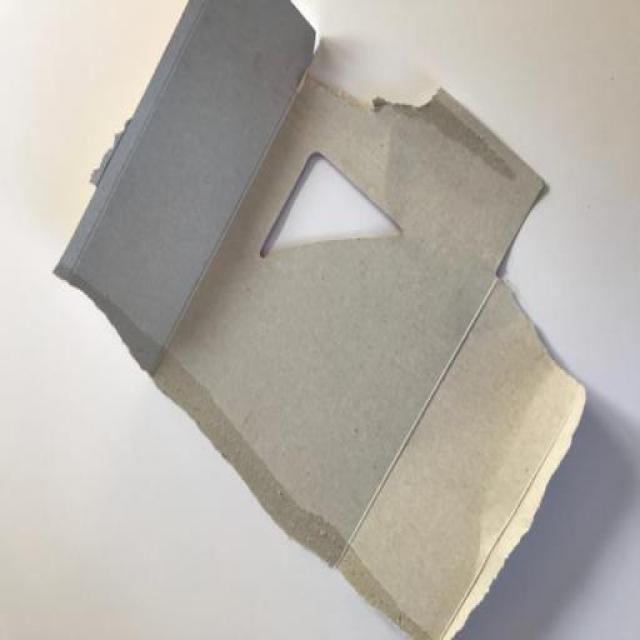paper: (37, 1, 600, 640)
